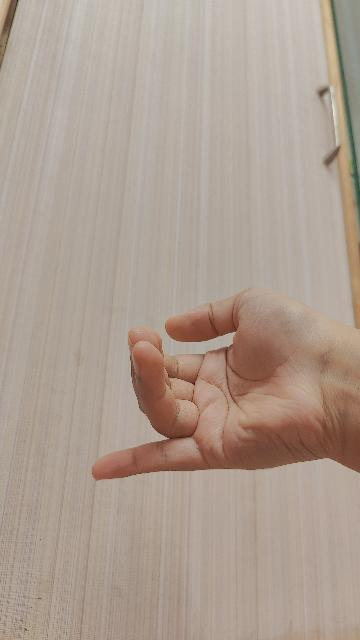Hamsapaksha: (92, 287, 360, 481)
